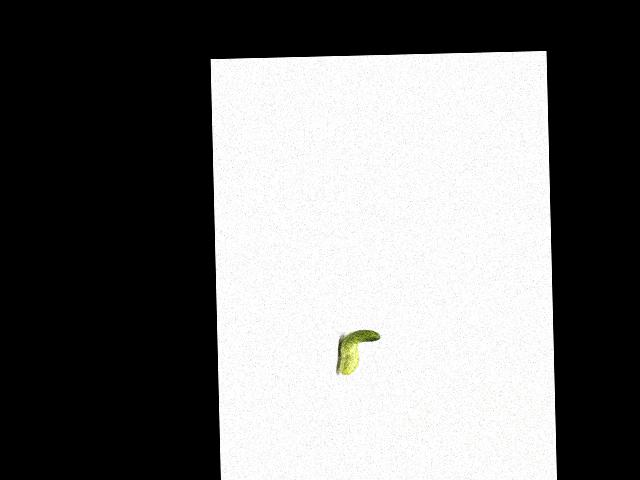cucumber: (337, 328, 380, 375)
